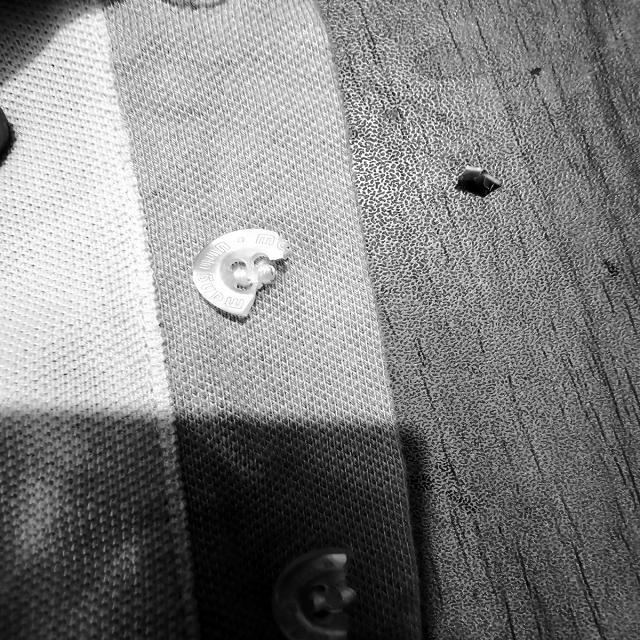Broken_button: (248, 532, 374, 640), (179, 218, 312, 320)
